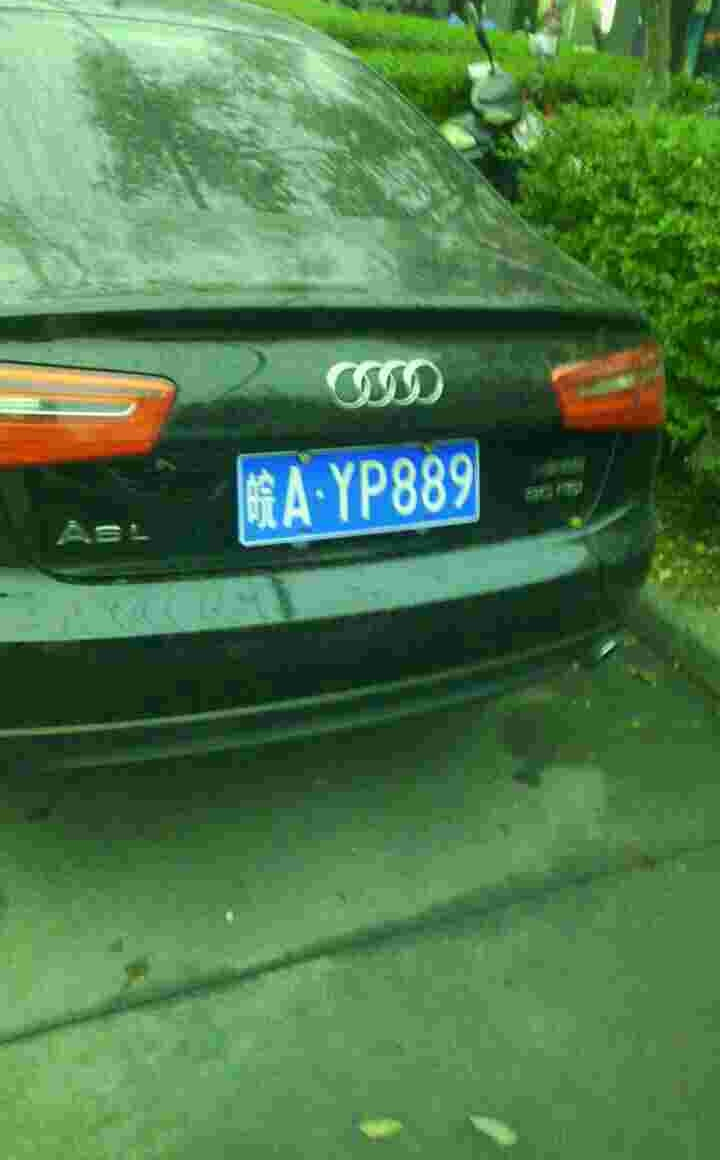license_plate: (241, 441, 490, 545)
